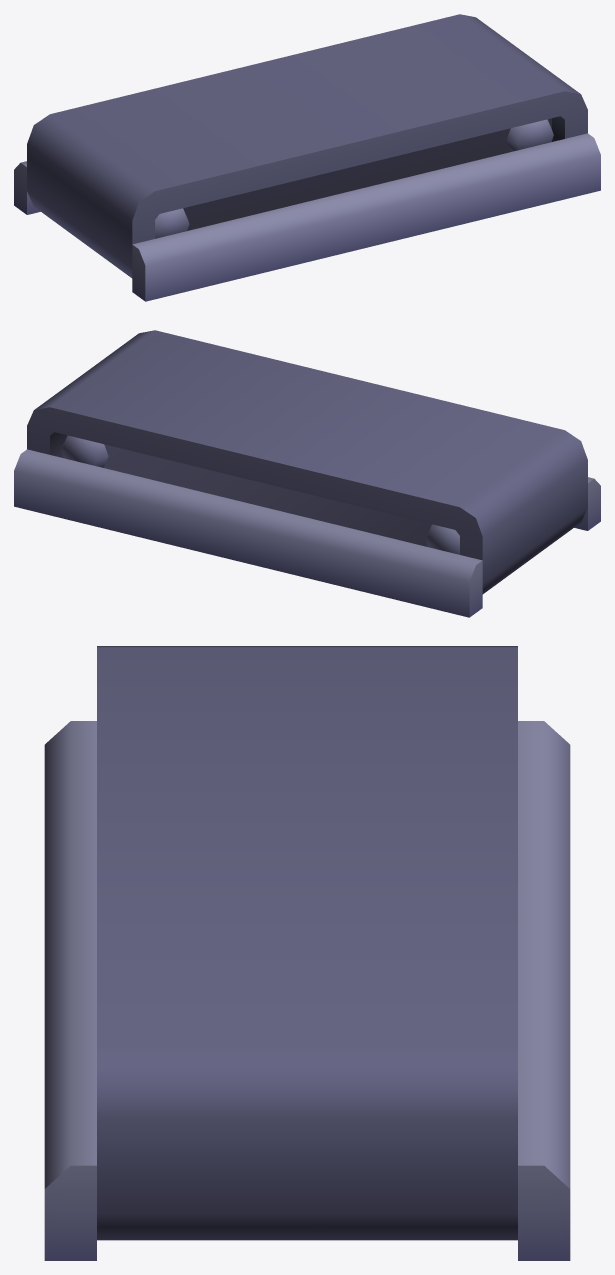
File: conveyor-long-sides.glb
3 views of the same model, one above another, from view 1: azimuth 30°, elevation 25°; view 2: azimuth 150°, elevation 25°; view 3: azimuth 270°, elevation 25° (orthographic). The views are drawn at different scales.
Parts seen in each view (by area): view 1: conveyor-long-sides; view 2: conveyor-long-sides; view 3: conveyor-long-sides.
Boxes of the visible parts, <box> form: conveyor-long-sides: <box>14,14,600,301</box>; conveyor-long-sides: <box>14,330,600,617</box>; conveyor-long-sides: <box>44,646,570,1260</box>.
Bounding box in the file's own units: 2 × 0.4 × 1.
